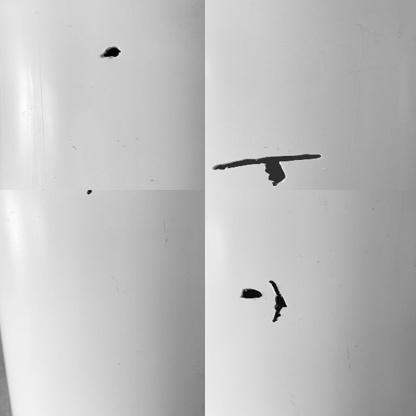fengxi: (211, 154, 330, 169)
kongdong: (267, 276, 290, 325), (262, 162, 289, 188), (97, 44, 122, 61), (237, 285, 262, 301), (84, 188, 92, 195)
